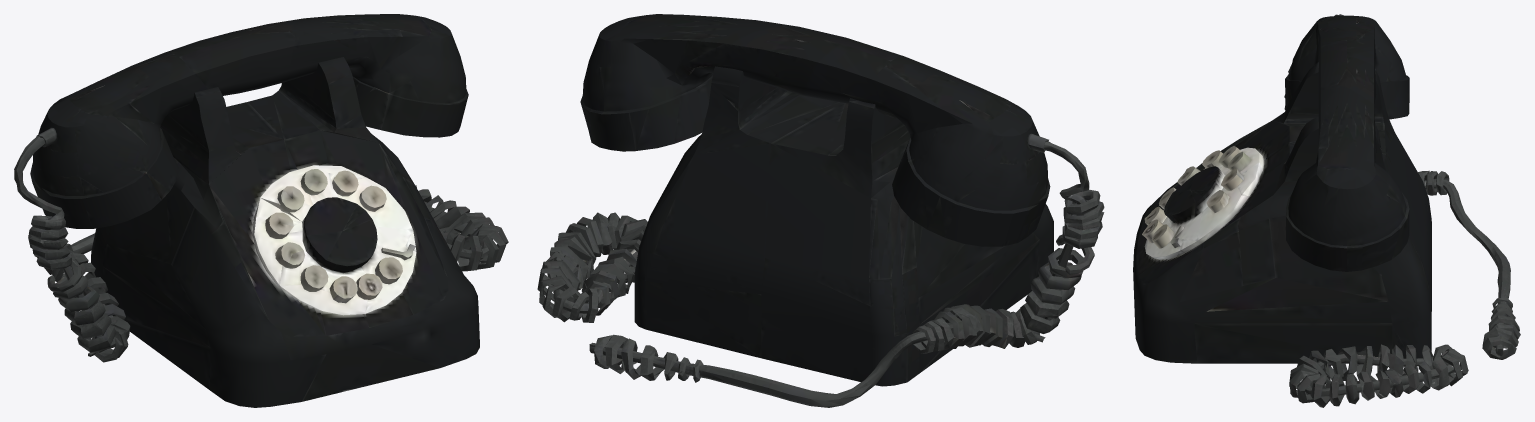
The model's file is rotary_phone.glb.
3 views of the same model, side by side, from view 1: azimuth 30°, elevation 25°; view 2: azimuth 150°, elevation 25°; view 3: azimuth 270°, elevation 25° (orthographic). The views are drawn at different scales.
Size of the model in its own units: 0.24 by 0.1284 by 0.1847.
1 material, 1 textured.
